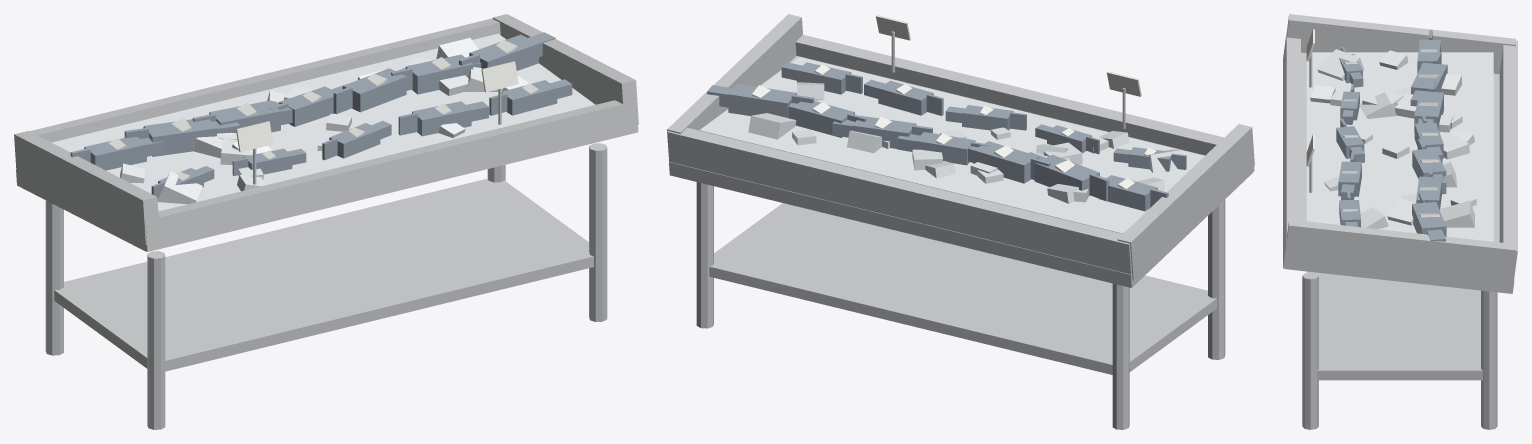
File: fish_crate.glb
3 views of the same model, side by side, from view 1: azimuth 30°, elevation 25°; view 2: azimuth 150°, elevation 25°; view 3: azimuth 270°, elevation 25° (orthographic). The views are drawn at different scales.
Visible parts, largest first — view 1: fish-market-and-trawler-quay-fish-display-slab-large; view 2: fish-market-and-trawler-quay-fish-display-slab-large; view 3: fish-market-and-trawler-quay-fish-display-slab-large.
Part boxes in pixels (box(x1,y1,x2,y2)): fish-market-and-trawler-quay-fish-display-slab-large: box(14, 14, 638, 429); fish-market-and-trawler-quay-fish-display-slab-large: box(667, 14, 1254, 429); fish-market-and-trawler-quay-fish-display-slab-large: box(1283, 14, 1517, 429).
Size of the model in its own units: 2.41 by 1.29 by 1.13.
